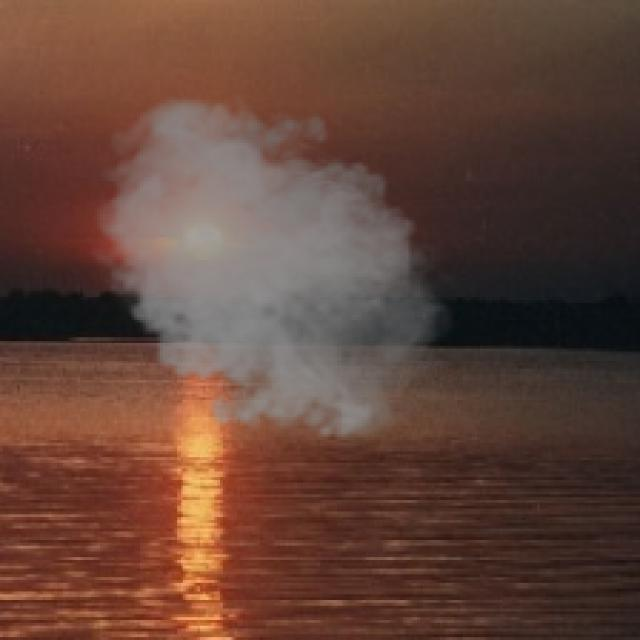Smoke: (86, 91, 466, 452)
